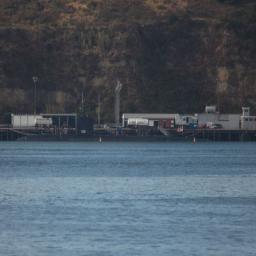submarine: (16, 92, 210, 142)
